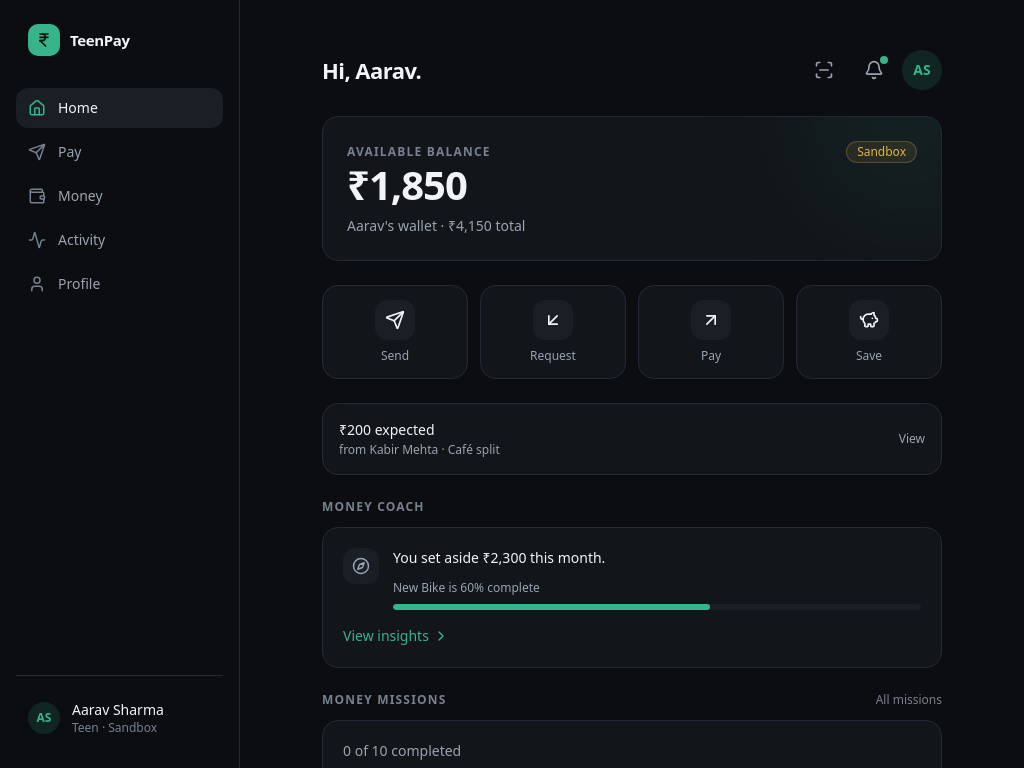
Test: home — notifications › opens the notification center from the bell
Click the button named "notifications" at {"x": 874, "y": 70}, box x1=852 y1=48 x2=896 y2=92
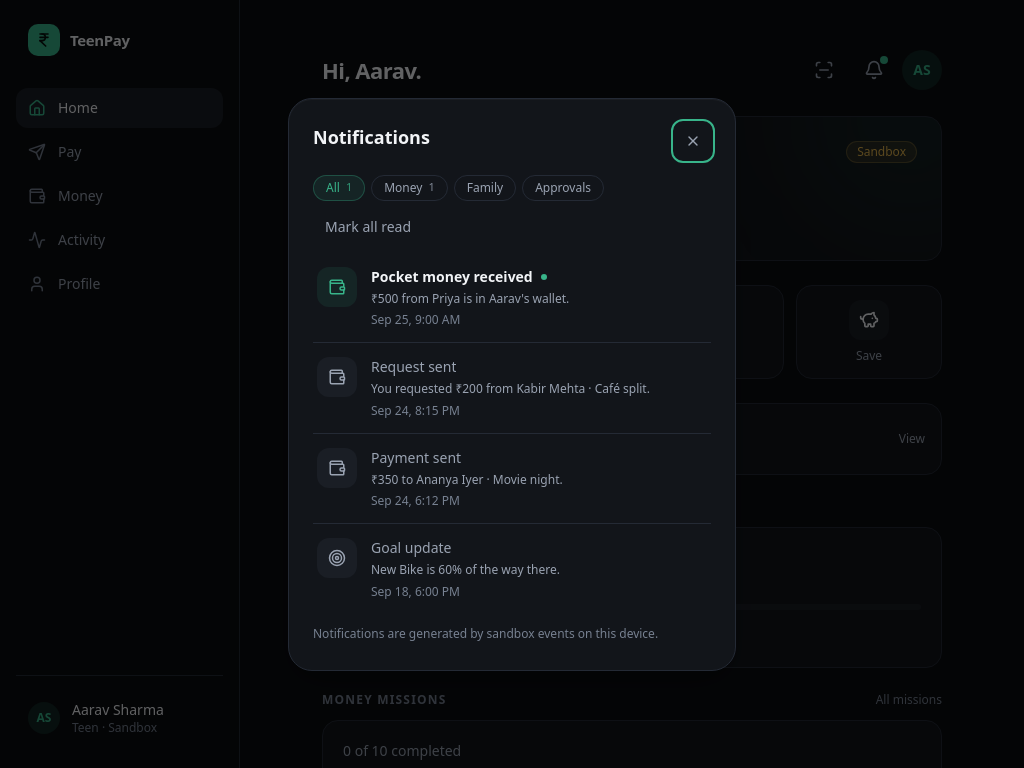
Expected: the heading "Notifications" is shown, x1=313 y1=122 x2=430 y2=150
Expected: the text "Pocket money received" is shown, x1=371 y1=266 x2=533 y2=286
Expected: the text "Request sent" is shown, x1=371 y1=357 x2=456 y2=377
